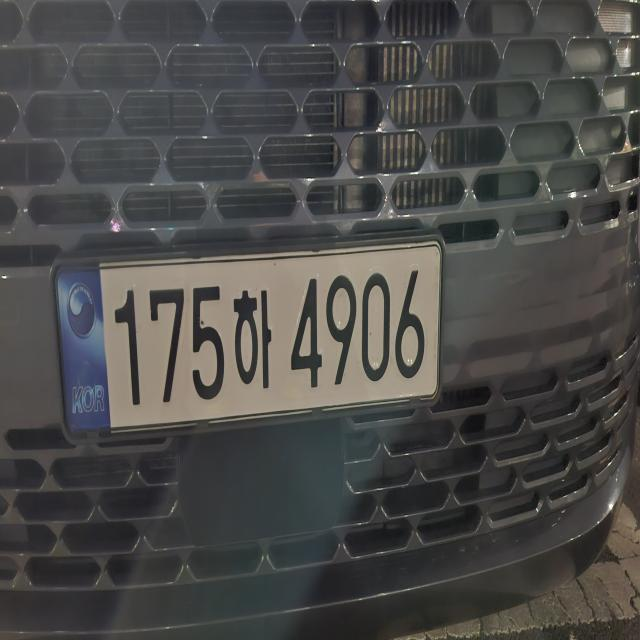car: (47, 225, 451, 449)
